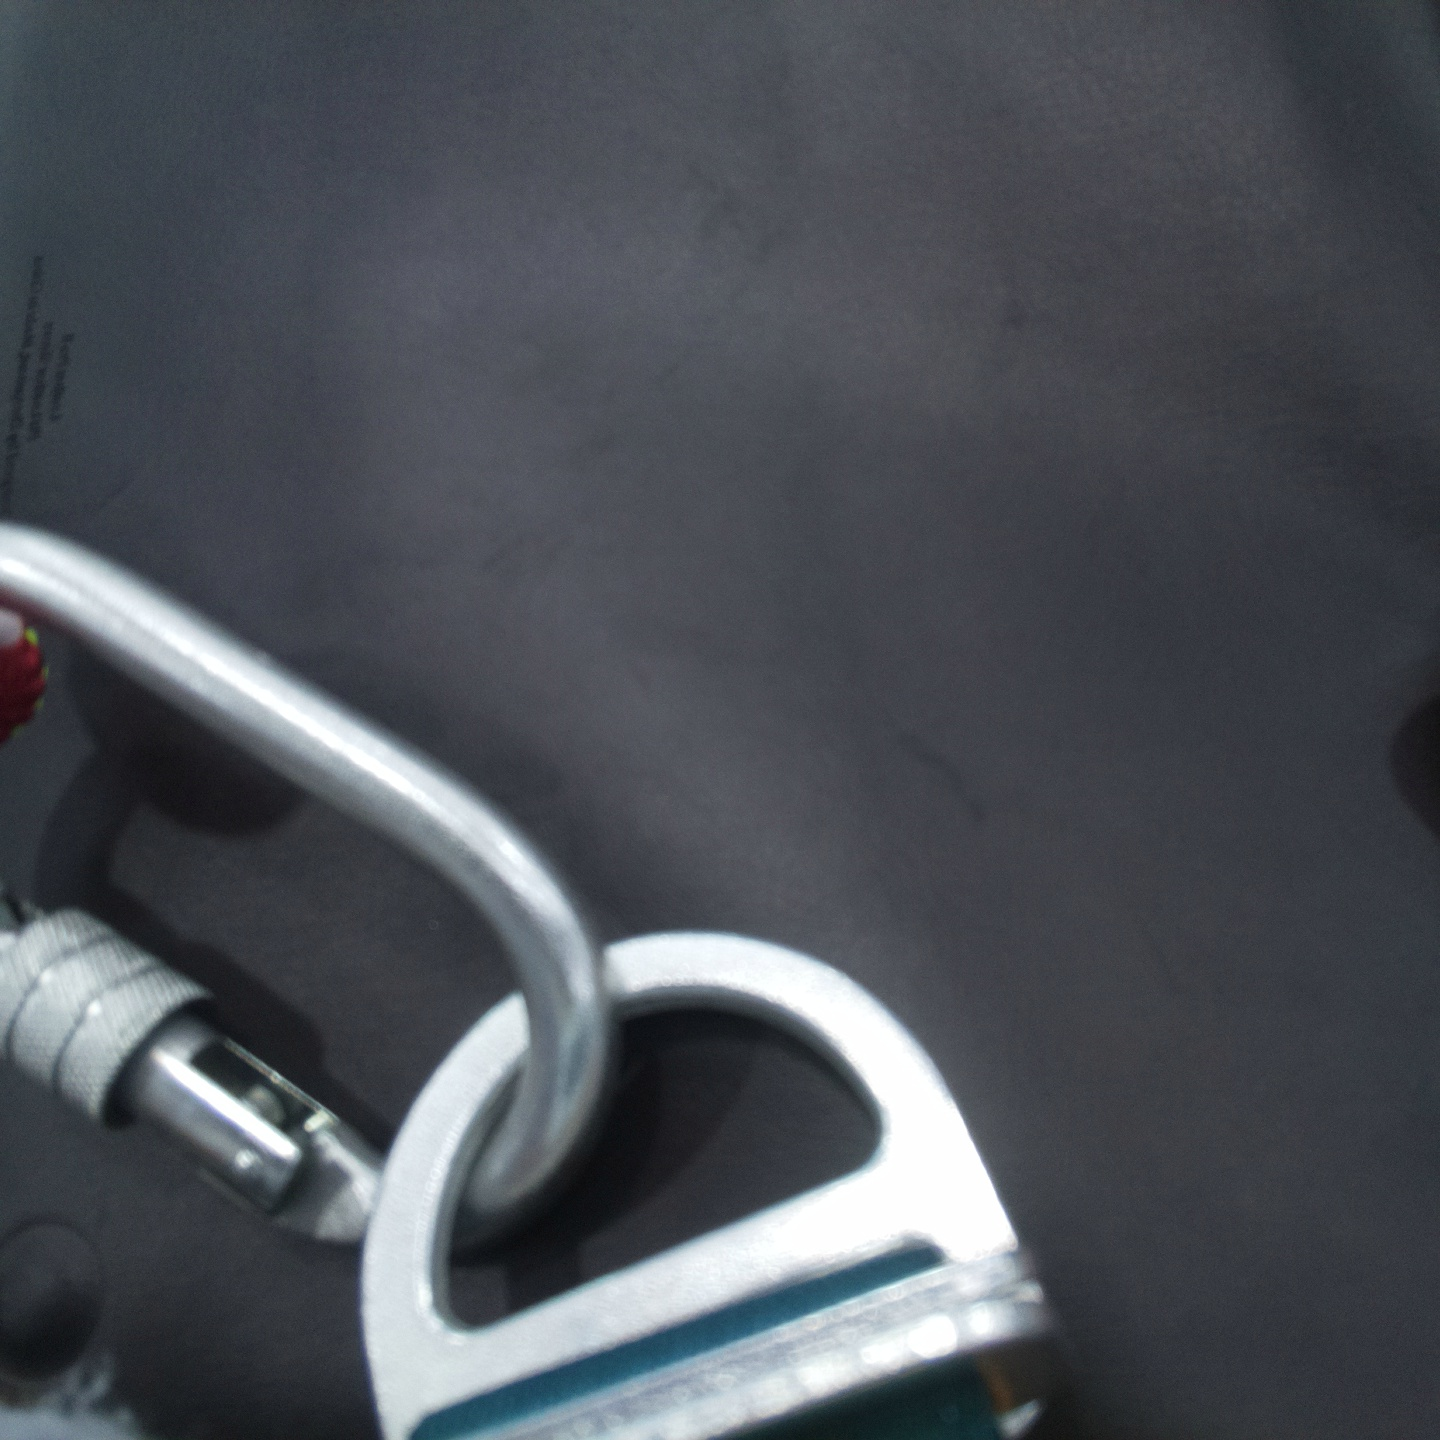SUCCESS: (135, 608, 1048, 1416)
